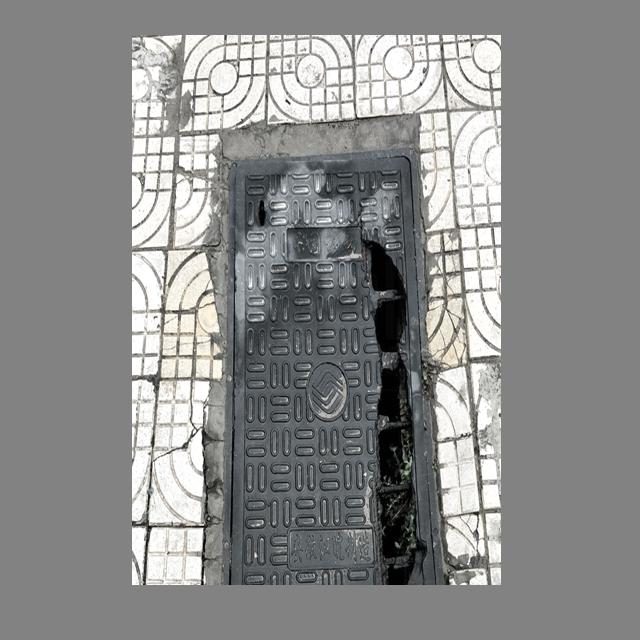broke: (223, 144, 445, 584)
